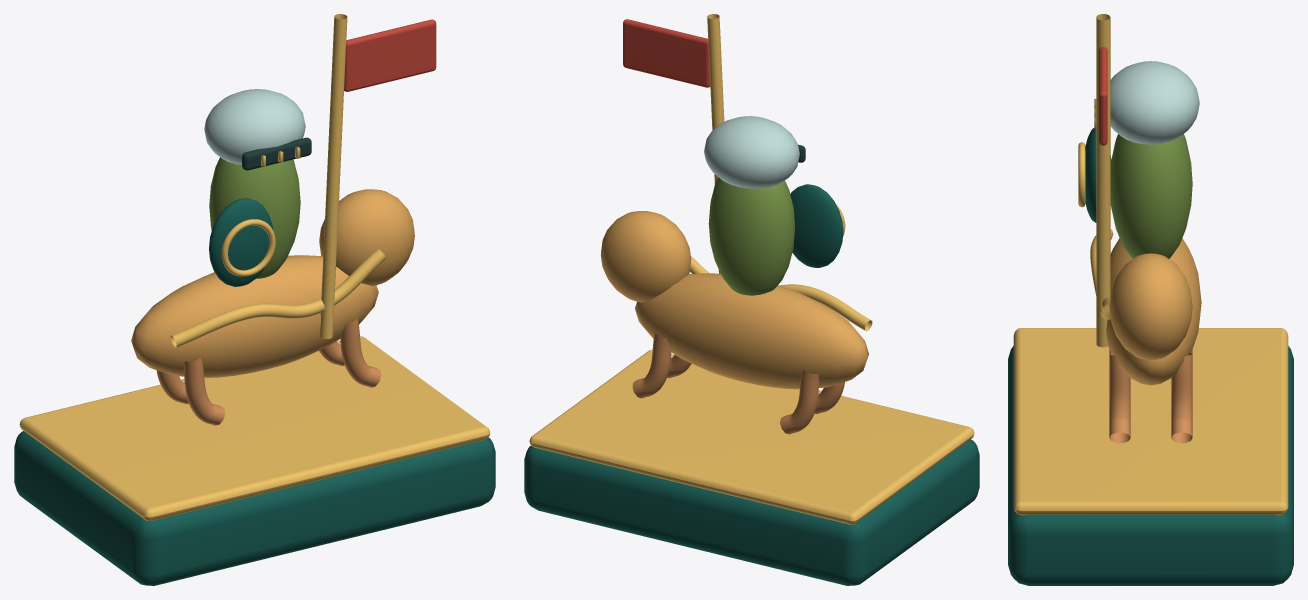
The picture shows the model from 3 angles, left to right: view 1: azimuth 30°, elevation 25°; view 2: azimuth 150°, elevation 25°; view 3: azimuth 270°, elevation 25°; orthographic projection. The views are drawn at different scales.
Parts seen in each view (by area): view 1: Brass welt, Jade footing, Corn dog steed, Steel helmet, Pickle knight, Crimson pennant, Tiny galloping legs, Visor; view 2: Brass welt, Jade footing, Corn dog steed, Pickle knight, Steel helmet, Crimson pennant, Tiny galloping legs; view 3: Brass welt, Jade footing, Corn dog steed, Pickle knight, Steel helmet, Tiny galloping legs, Crimson pennant.
Part boxes in pixels (x1,y1,x2,y2): Brass welt: [19, 14, 490, 521]; Jade footing: [14, 198, 495, 585]; Corn dog steed: [131, 189, 414, 377]; Steel helmet: [204, 89, 305, 164]; Pickle knight: [209, 157, 300, 278]; Crimson pennant: [344, 19, 436, 91]; Tiny galloping legs: [156, 316, 381, 425]; Visor: [242, 137, 311, 170]; Brass welt: [529, 14, 974, 524]; Jade footing: [524, 184, 979, 585]; Corn dog steed: [600, 211, 868, 389]; Pickle knight: [708, 177, 795, 295]; Steel helmet: [704, 116, 799, 188]; Crimson pennant: [623, 19, 710, 87]; Tiny galloping legs: [632, 331, 844, 434]; Brass welt: [1013, 14, 1288, 515]; Jade footing: [1008, 128, 1293, 585]; Corn dog steed: [1106, 238, 1201, 385]; Pickle knight: [1110, 134, 1192, 258]; Steel helmet: [1110, 61, 1199, 144]; Tiny galloping legs: [1109, 349, 1192, 443]; Crimson pennant: [1099, 47, 1107, 145].
Size of the model in its own units: 0.74 by 0.9556 by 0.48.
